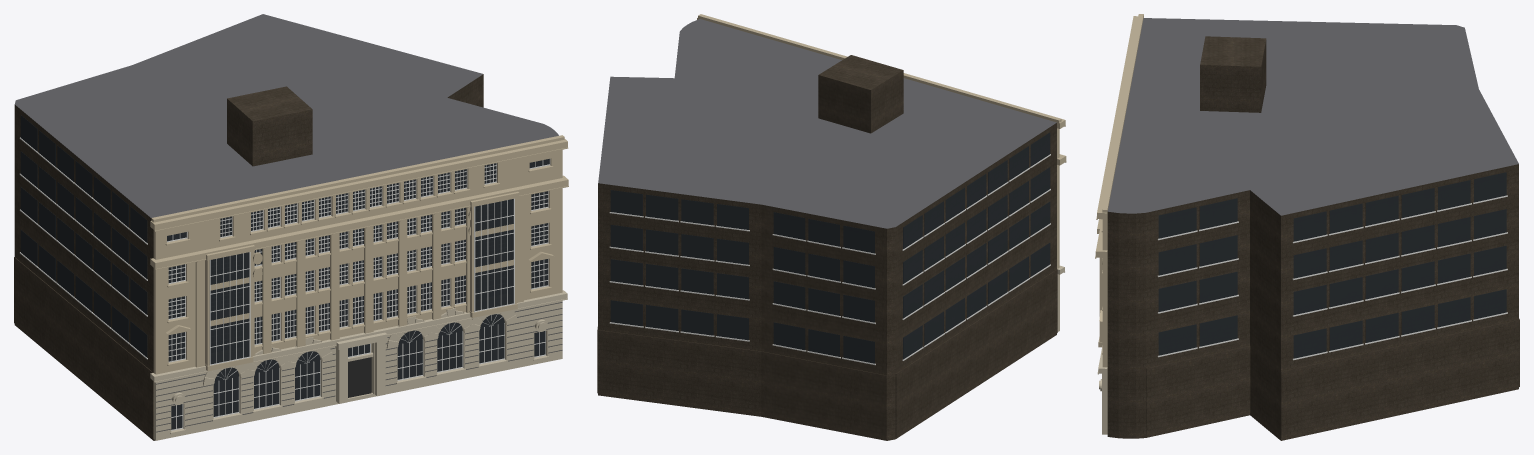
Rendered from hero_mo.glb.
The picture shows the model from 3 angles, left to right: view 1: azimuth 30°, elevation 25°; view 2: azimuth 150°, elevation 25°; view 3: azimuth 270°, elevation 25°; orthographic projection. The views are drawn at different scales.
Visible parts, largest first — view 1: HERO_body, HERO_cornice.001, HERO_glass, HERO_cartouche, HERO_fan_bar, HERO_rustication_groove, HERO_door_left; view 2: HERO_body, HERO_glass, HERO_fan_bar, HERO_cornice.001; view 3: HERO_body, HERO_glass, HERO_cornice.001, HERO_fan_bar, HERO_cartouche.
Boxes of the visible parts, x1,y1,x2,y2 form: HERO_body: [14, 14, 558, 440]; HERO_cornice.001: [150, 135, 568, 374]; HERO_glass: [20, 115, 549, 429]; HERO_cartouche: [150, 290, 567, 440]; HERO_fan_bar: [19, 137, 550, 430]; HERO_rustication_groove: [156, 302, 562, 432]; HERO_door_left: [348, 357, 371, 397]; HERO_body: [597, 19, 1057, 440]; HERO_glass: [610, 132, 1050, 363]; HERO_fan_bar: [609, 154, 1050, 365]; HERO_cornice.001: [697, 14, 1066, 268]; HERO_body: [1107, 18, 1519, 440]; HERO_glass: [1158, 172, 1506, 358]; HERO_cornice.001: [1095, 14, 1143, 367]; HERO_fan_bar: [1157, 195, 1507, 360]; HERO_cartouche: [1097, 345, 1107, 434].
Size of the model in its own units: 38.64 by 24.43 by 34.67.
8 materials, 1 textured.
